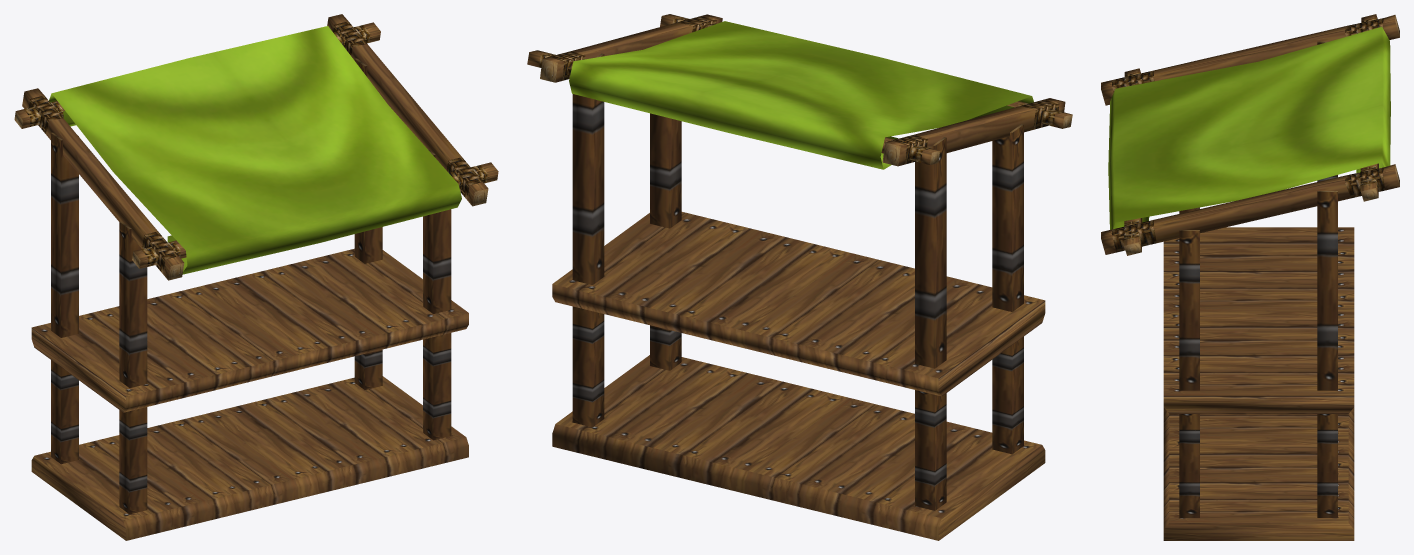
Rendered from MarketPlace03A.fbx.
The picture shows the model from 3 angles, left to right: view 1: azimuth 30°, elevation 25°; view 2: azimuth 150°, elevation 25°; view 3: azimuth 270°, elevation 25°; orthographic projection. The views are drawn at different scales.
Visible parts, largest first — view 1: MarketPlace03A; view 2: MarketPlace03A; view 3: MarketPlace03A.
Part boxes in pixels (left/top/right/bottom): MarketPlace03A: left=14, top=14, right=498, bottom=540; MarketPlace03A: left=527, top=14, right=1072, bottom=540; MarketPlace03A: left=1101, top=14, right=1399, bottom=540.
Bounding box in the file's own units: 5.97 × 5.77 × 4.29.
